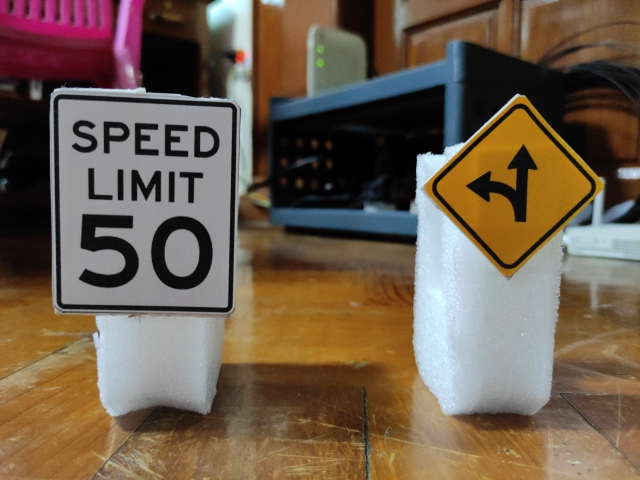Speed Limit 50: (50, 90, 240, 316)
Straight Or Left Sign: (428, 101, 599, 274)
